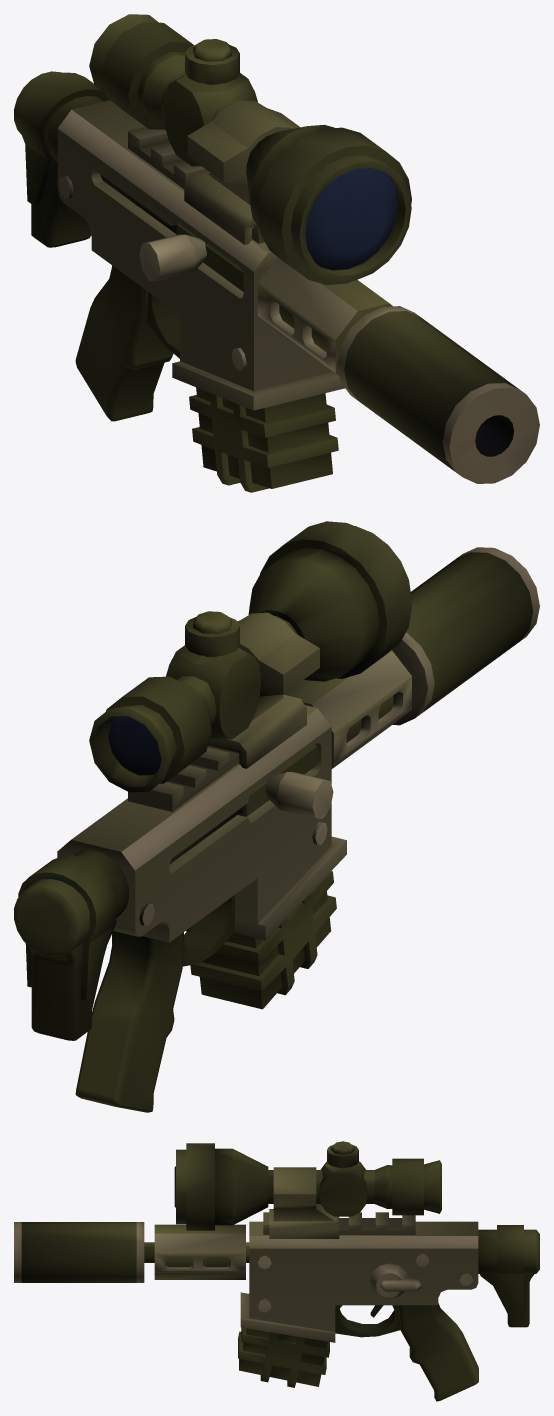
The model's file is FireArms_Sniper_Rifle.gltf.
The picture shows the model from 3 angles, top to bottom: view 1: azimuth 30°, elevation 25°; view 2: azimuth 150°, elevation 25°; view 3: azimuth 270°, elevation 25°; orthographic projection. The views are drawn at different scales.
Visible parts, largest first — view 1: FireArms_Sniper_Rifle; view 2: FireArms_Sniper_Rifle; view 3: FireArms_Sniper_Rifle.
Part boxes in pixels (box(x1,y1,x2,y2)): FireArms_Sniper_Rifle: box(14, 14, 539, 492); FireArms_Sniper_Rifle: box(14, 521, 539, 1112); FireArms_Sniper_Rifle: box(14, 1141, 539, 1401).
Bounding box in the file's own units: 0.2453 × 0.6639 × 1.26.
3 materials, 3 textured.
